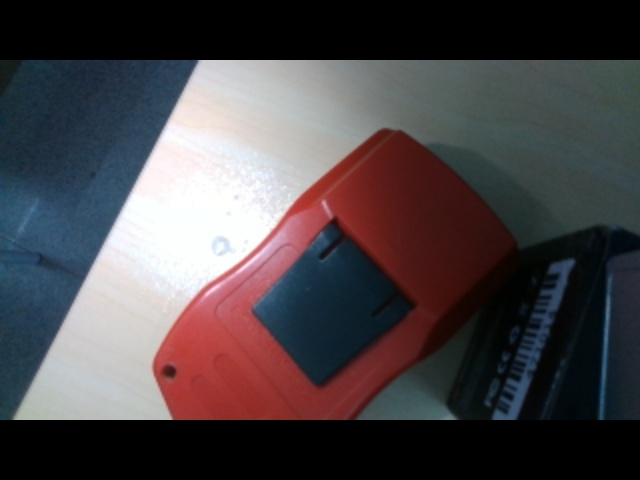Multimeter: (149, 126, 520, 421)
Screw holes: (161, 364, 180, 381)
